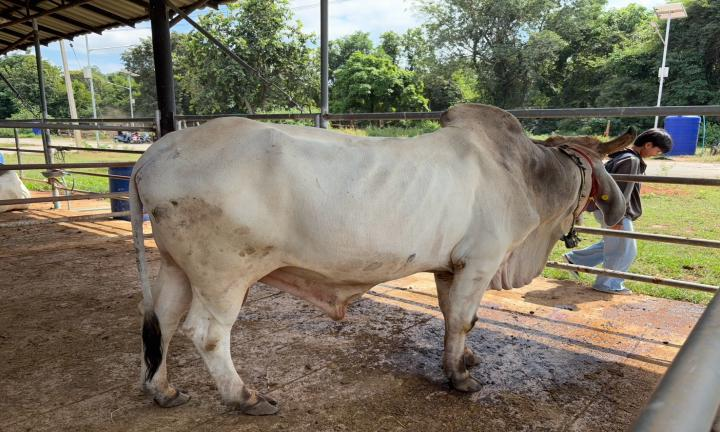Brahman: (126, 104, 636, 414)
